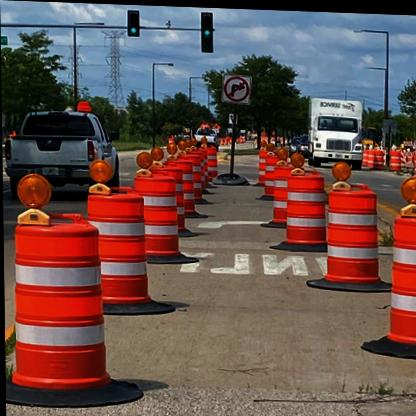obstacle: (7, 212, 114, 394), (321, 186, 384, 282), (100, 192, 152, 303), (278, 166, 327, 244)
